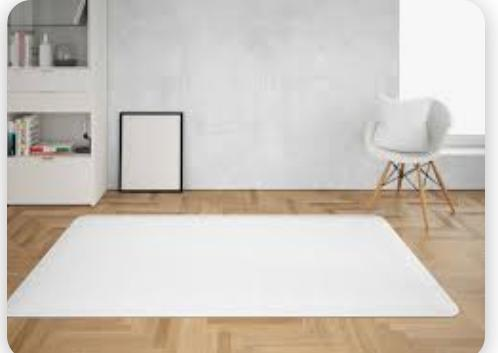carpet: (8, 215, 458, 317)
